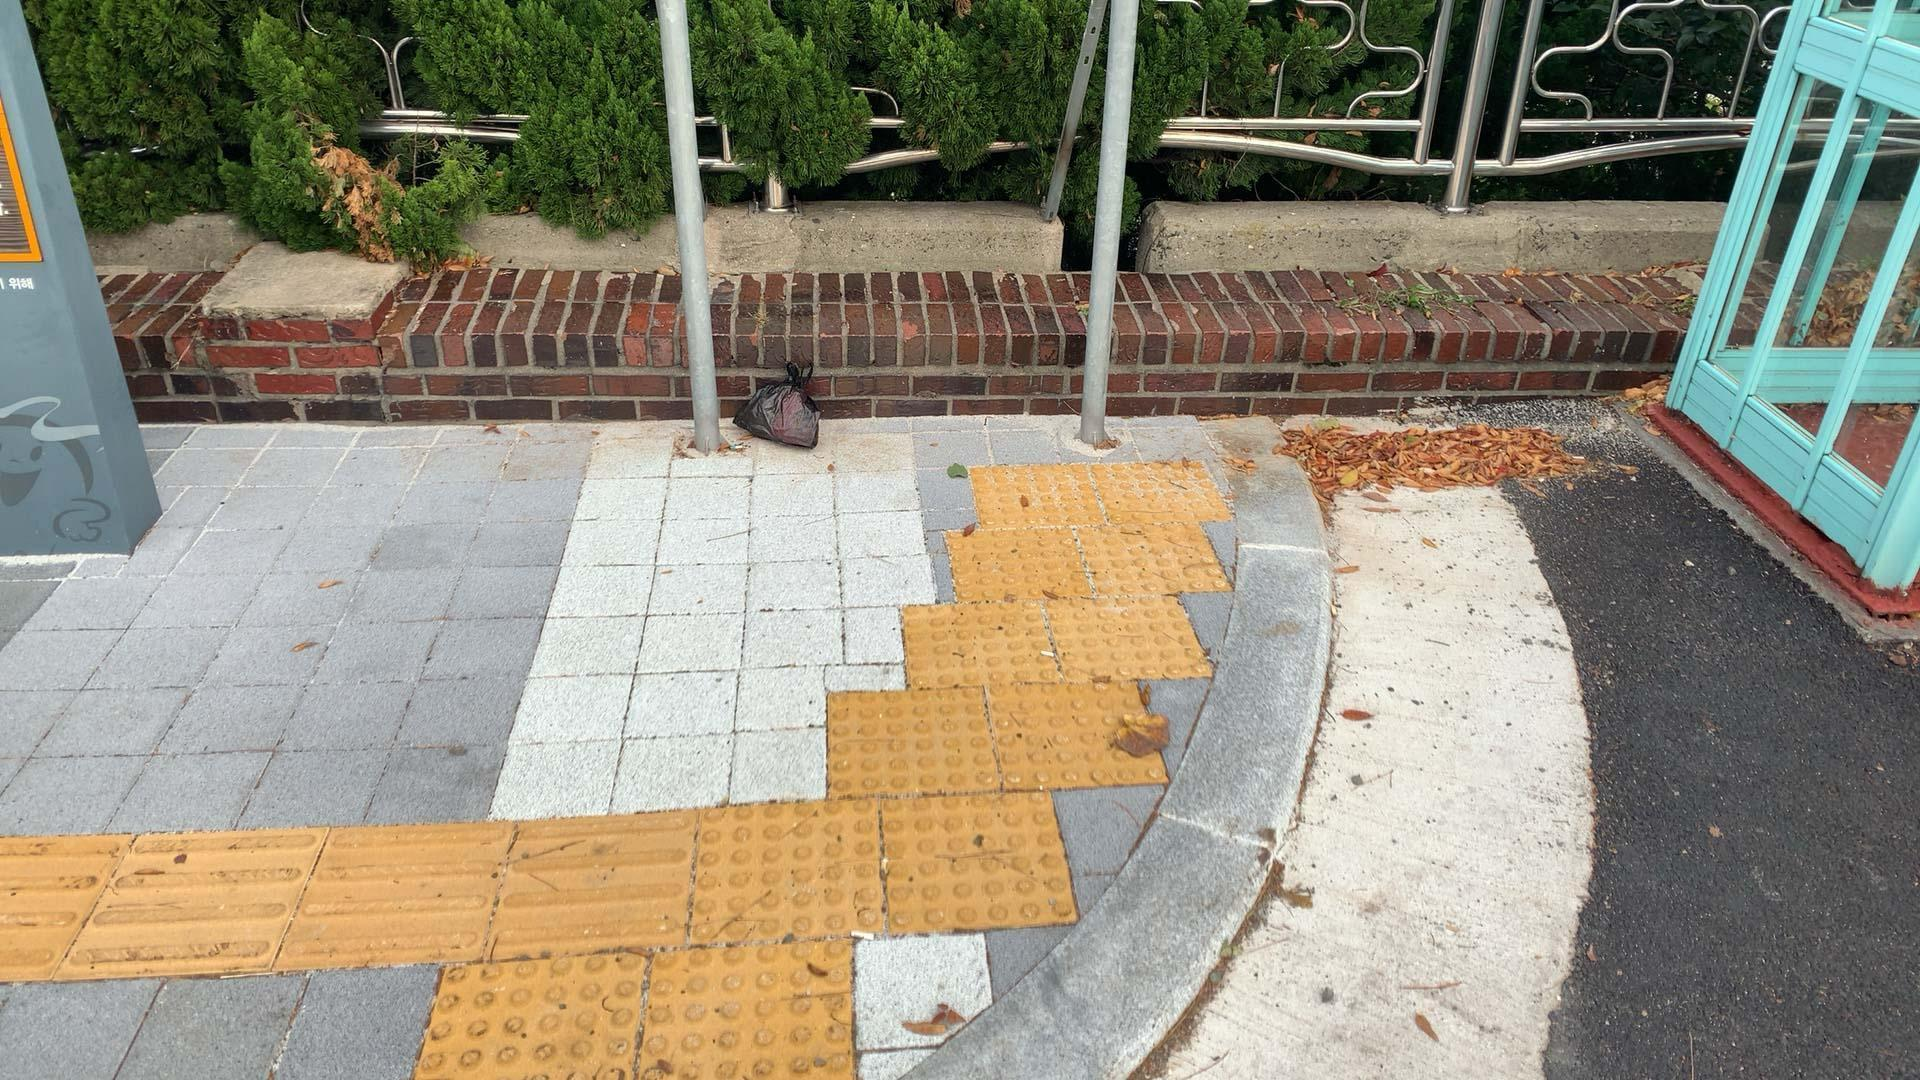black_bag: (727, 357, 831, 454)
